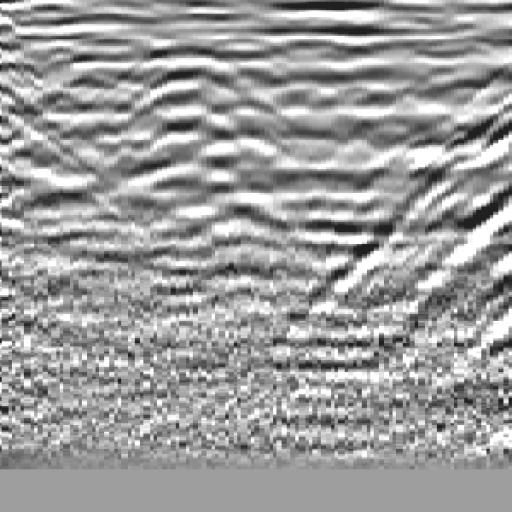metalic: (97, 32, 275, 261)
nonmetalic: (376, 42, 512, 293)
